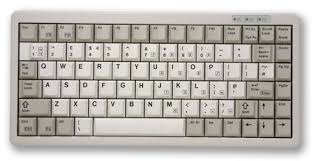keyboard: (8, 8, 309, 153)
